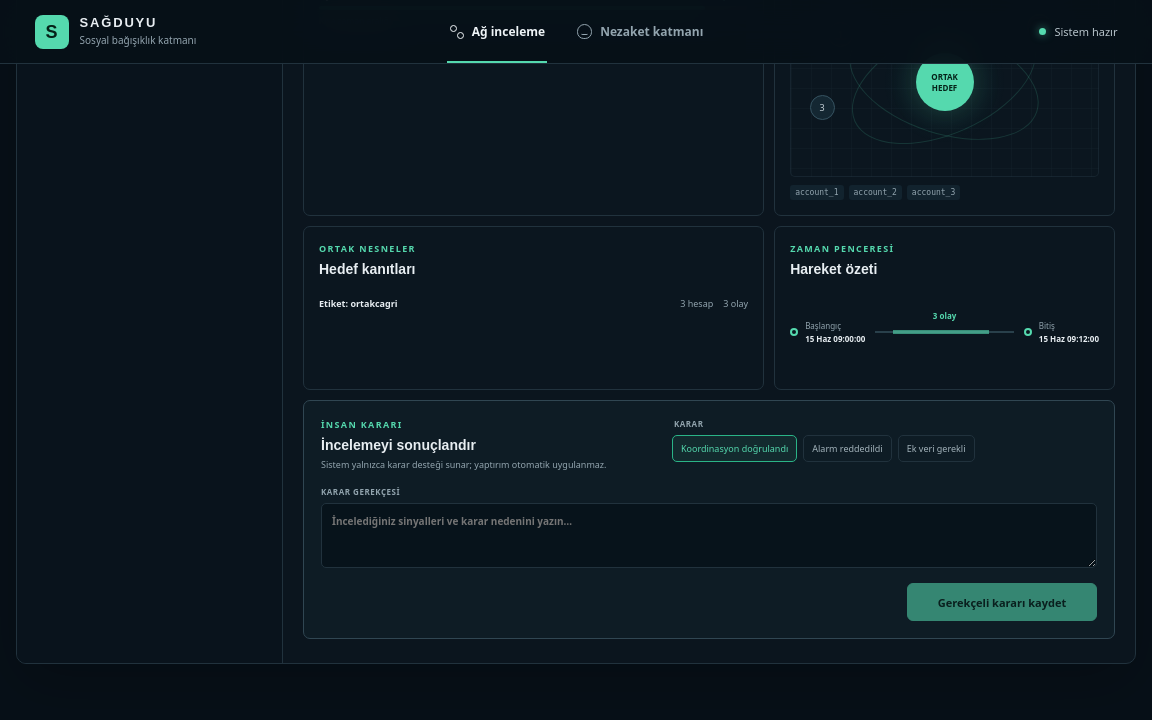
moderasyon merkezi › gerekçeli moderatör kararını kaydeder
(page scrolled)
Type "Sinyaller birlikte değerlendirildi." into the text box labelled "Karar gerekçesi".
click(709, 536); type("Sinyaller birlikte değerlendirildi.")  # box [321,503,1097,568]
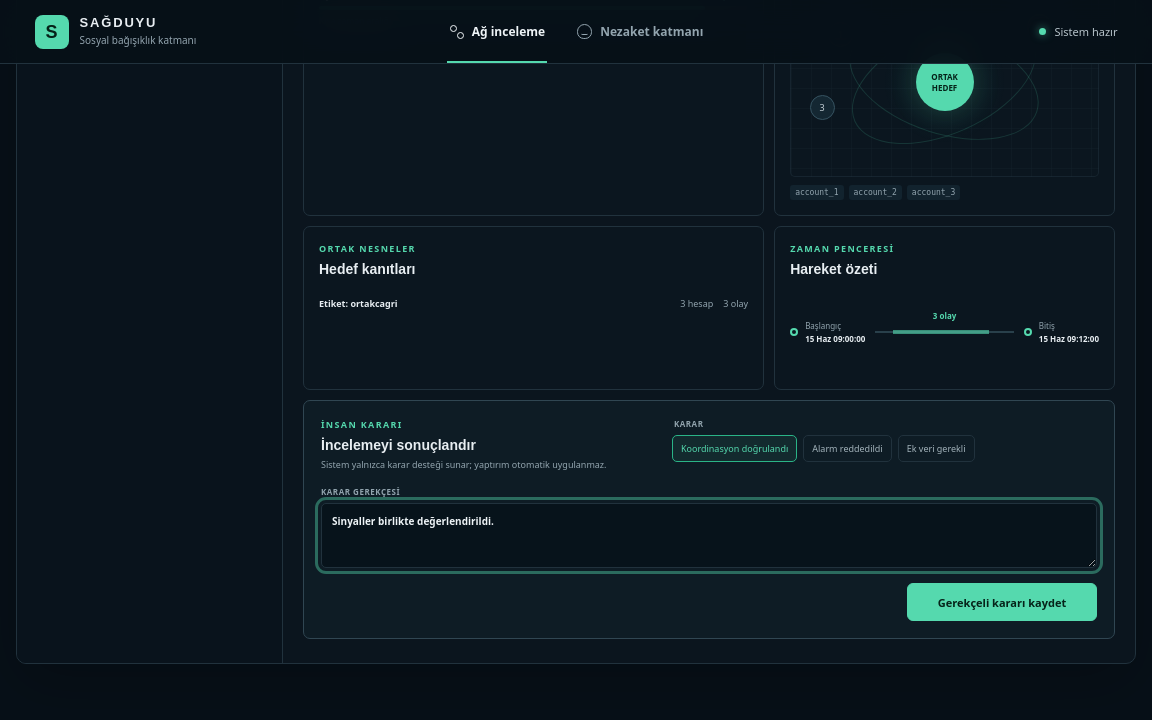
Click the button "Gerekçeli kararı kaydet".
click(1002, 602)  # box [907,583,1097,621]
(page scrolled)
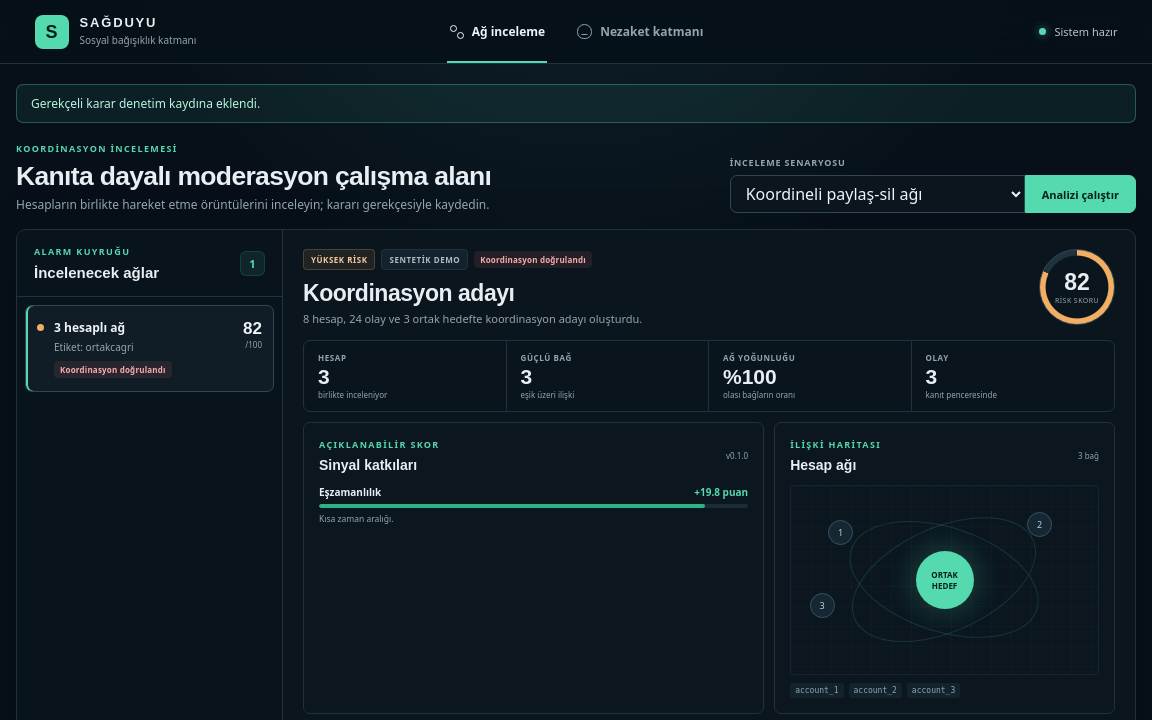
Check: the message shows "denetim kaydına", box [31,95,260,112]
